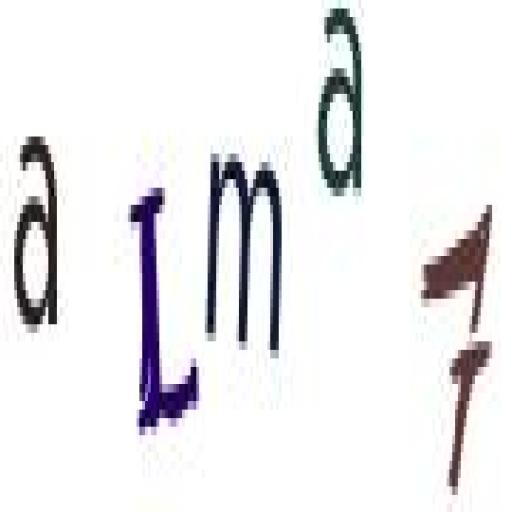7: (411, 183, 504, 496)
L: (123, 171, 203, 440)
a: (10, 130, 66, 339), (314, 3, 370, 208)
m: (206, 142, 286, 368)
